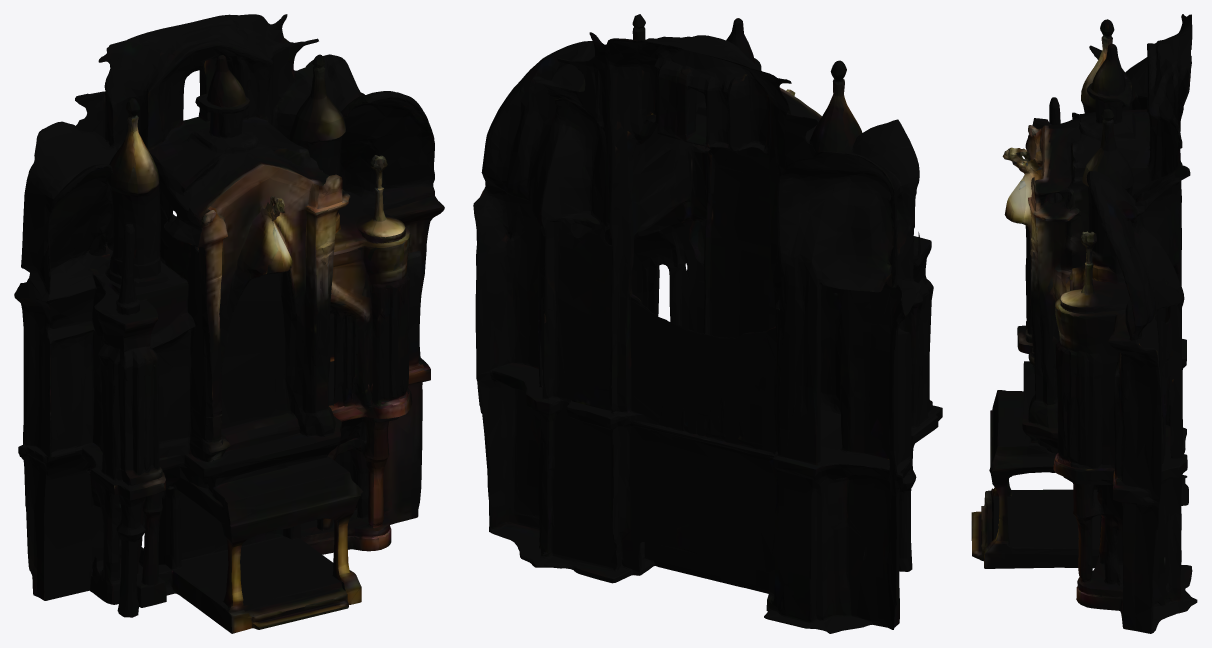
File: prop_cathedral_organ.glb
3 renders of one model, left to right at view 1: azimuth 30°, elevation 25°; view 2: azimuth 150°, elevation 25°; view 3: azimuth 270°, elevation 25°, orthographic. The views are drawn at different scales.
Visible parts, largest first — view 1: geometry_0; view 2: geometry_0; view 3: geometry_0.
Part boxes in pixels (x1=…): geometry_0: x1=14, y1=14, x2=444, y2=633; geometry_0: x1=473, y1=14, x2=942, y2=633; geometry_0: x1=971, y1=14, x2=1197, y2=633.
Bounding box in the file's own units: 0.8273 × 1 × 0.4166.
Materials: 1 (1 with a texture image).
